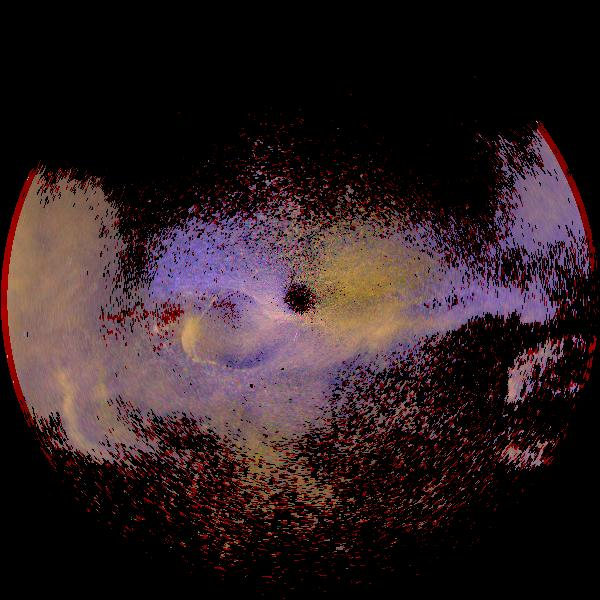roost: (84, 287, 237, 440)
